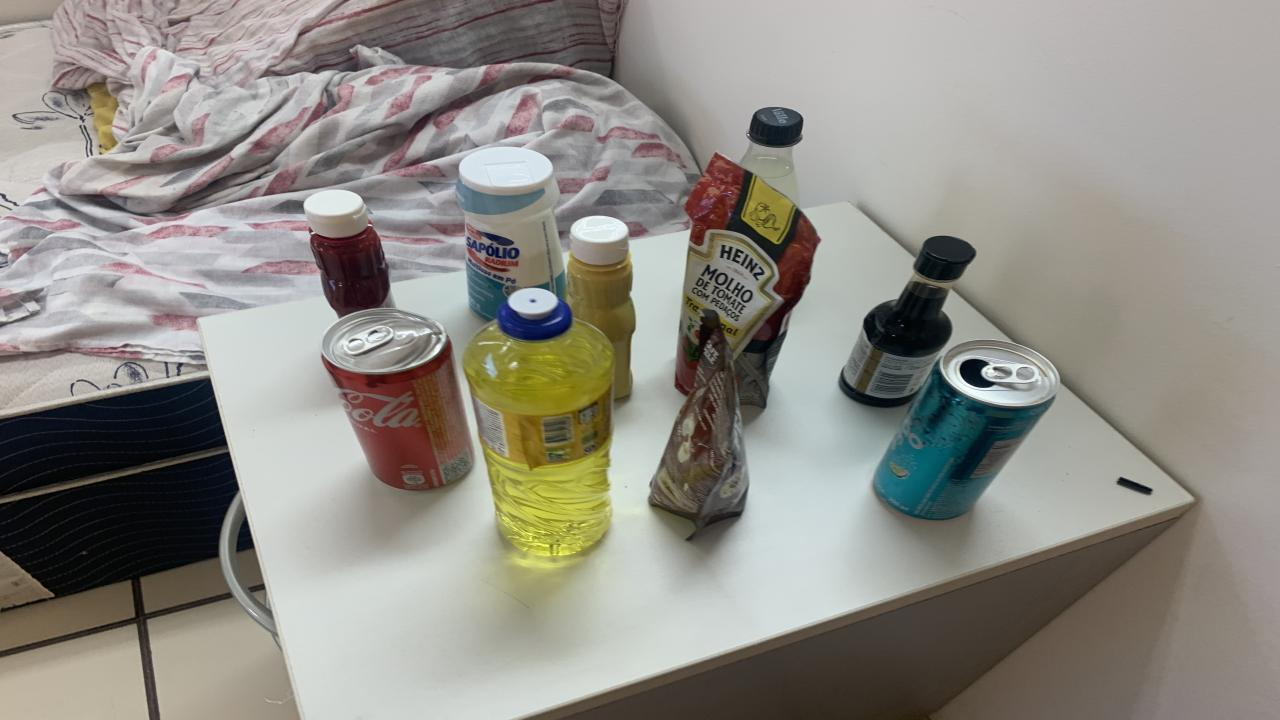Cleaner-Cleanup_Items: (458, 146, 565, 319)
Coffee-Pantry_Items: (648, 309, 750, 538)
Coke-Drinks: (322, 308, 472, 489)
Detergent-Cleanup_Items: (462, 287, 612, 555)
English_Sauce-Pantry_Items: (840, 236, 975, 407)
Ketchup-Pantry_Items: (302, 189, 395, 317)
Mustard-Pantry_Items: (565, 216, 635, 398)
Soda-Drinks: (740, 107, 802, 204)
Tea-Drinks: (872, 339, 1060, 519)
Tomato_Sauce-Pantry_Items: (675, 154, 820, 407)
